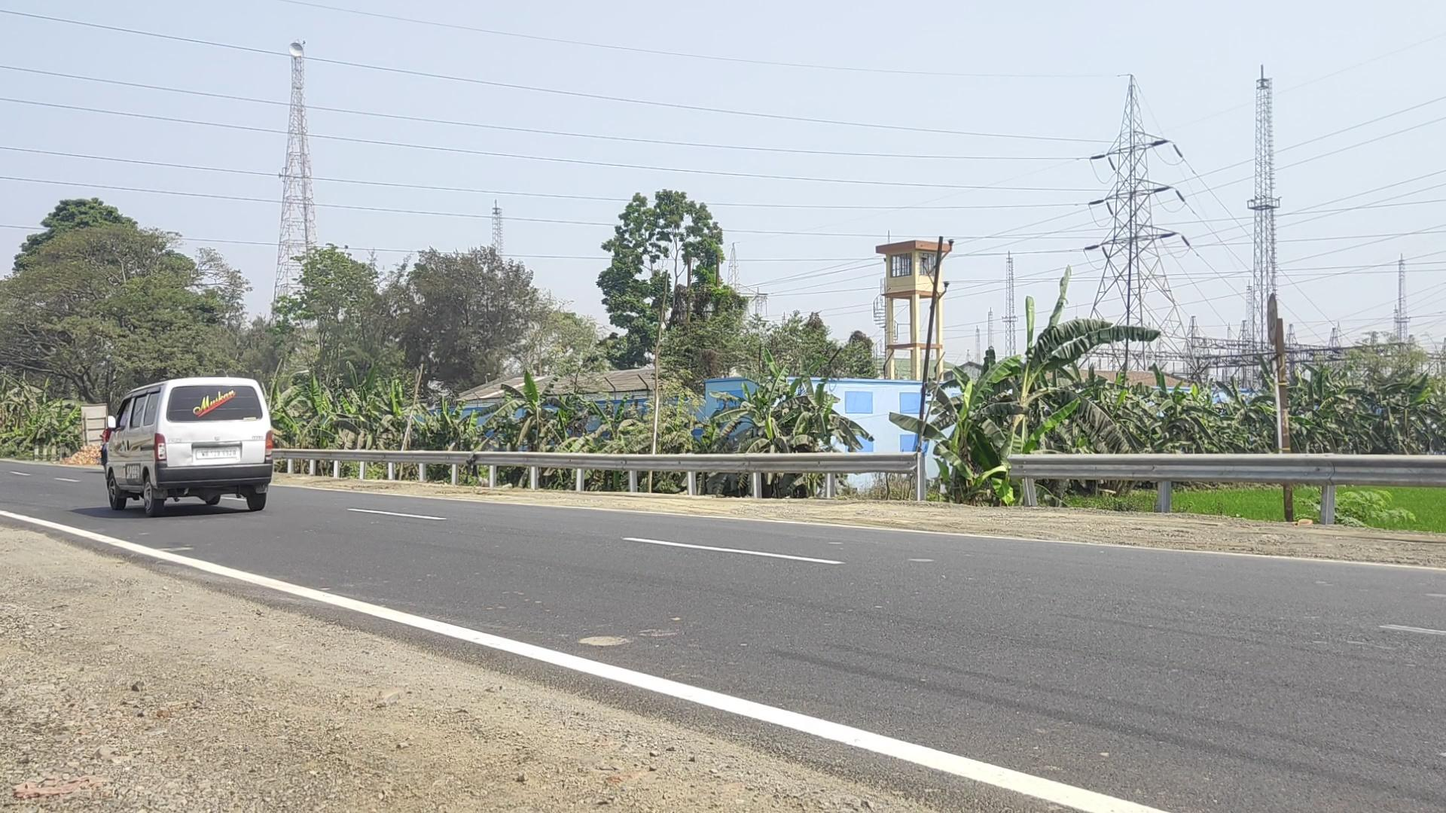van: (102, 376, 273, 517)
